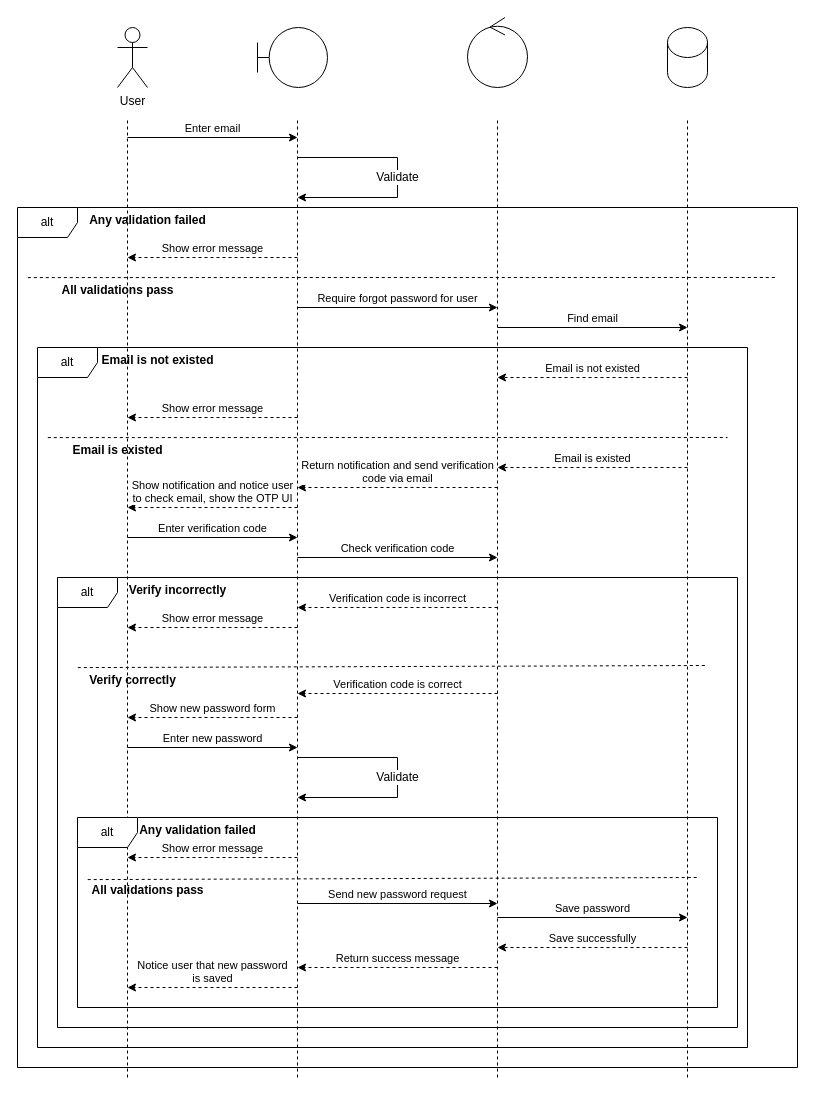
Some shapes in this 815 by 1096 pixel diagram are drawn without their labels. Here are the shapes that lost their labels. From the top down, the centre of each, then its label:
pixel 292 57: ForgotPasswordForm
pixel 497 52: ForgotPasswordController
pixel 687 57: User Database
